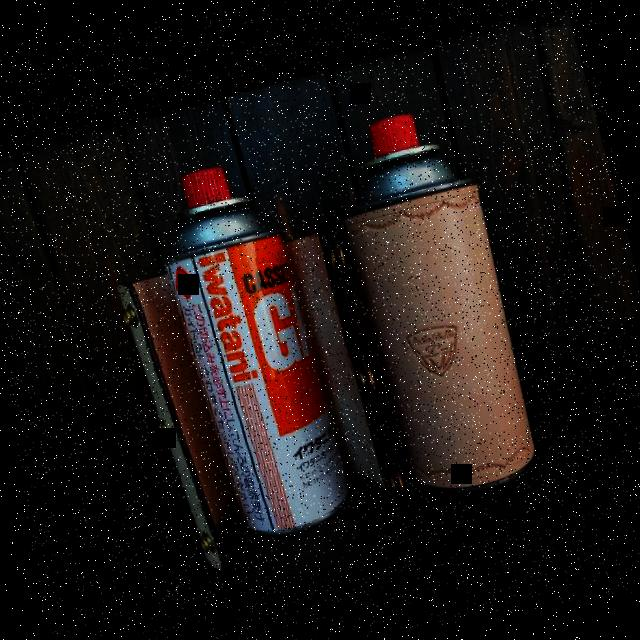chemical_spray_can: (346, 113, 536, 492), (163, 166, 350, 535)
